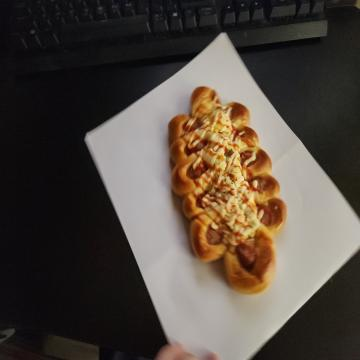pizza_bread: (167, 86, 288, 298)
